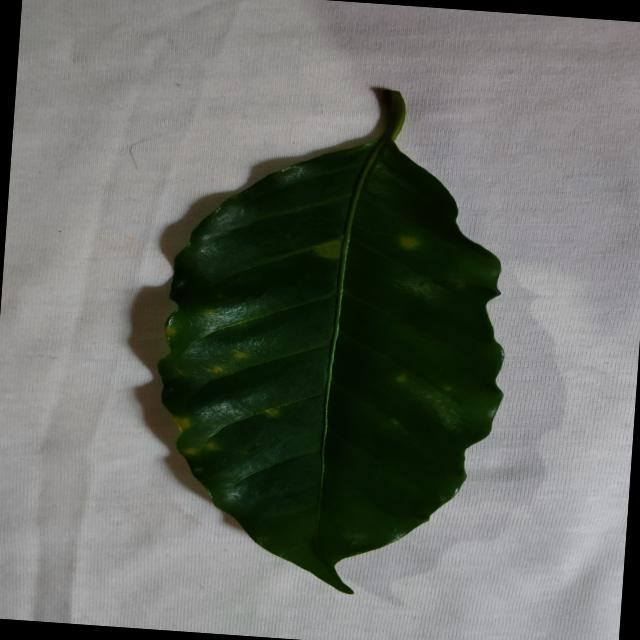KaratDaunKopi: (313, 239, 341, 258), (173, 417, 190, 432), (400, 236, 419, 249), (204, 442, 220, 451), (164, 326, 175, 337), (265, 408, 280, 416), (234, 350, 248, 358), (183, 448, 197, 455), (211, 365, 224, 372), (396, 375, 407, 382), (443, 385, 452, 391)
